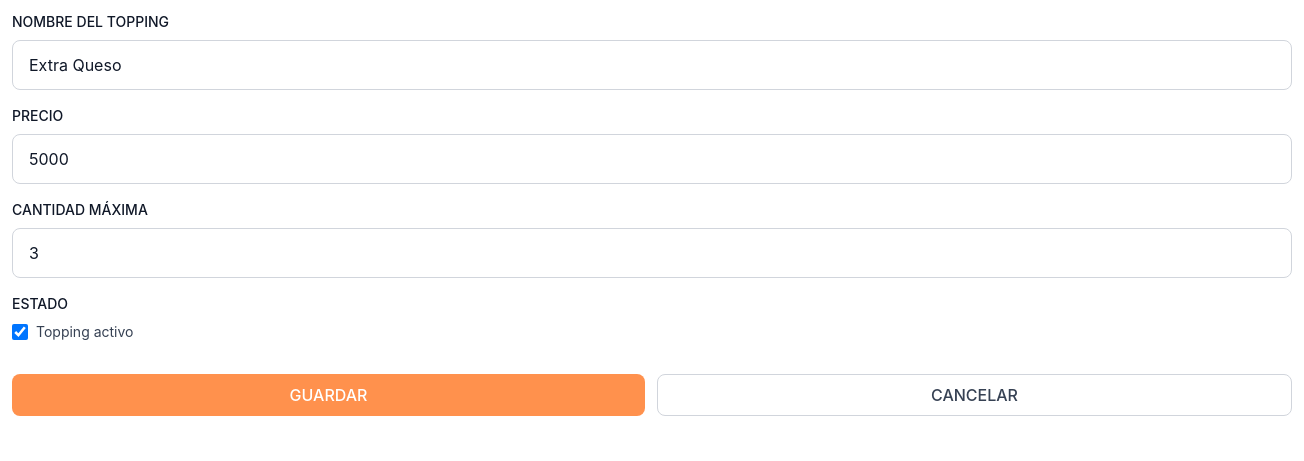
Test: EditToppingForm › Form validation › should show error when name is too short
Replace the text in the field showing "Extra Queso" with "AB": x=652, y=65 [12,40,1292,90]
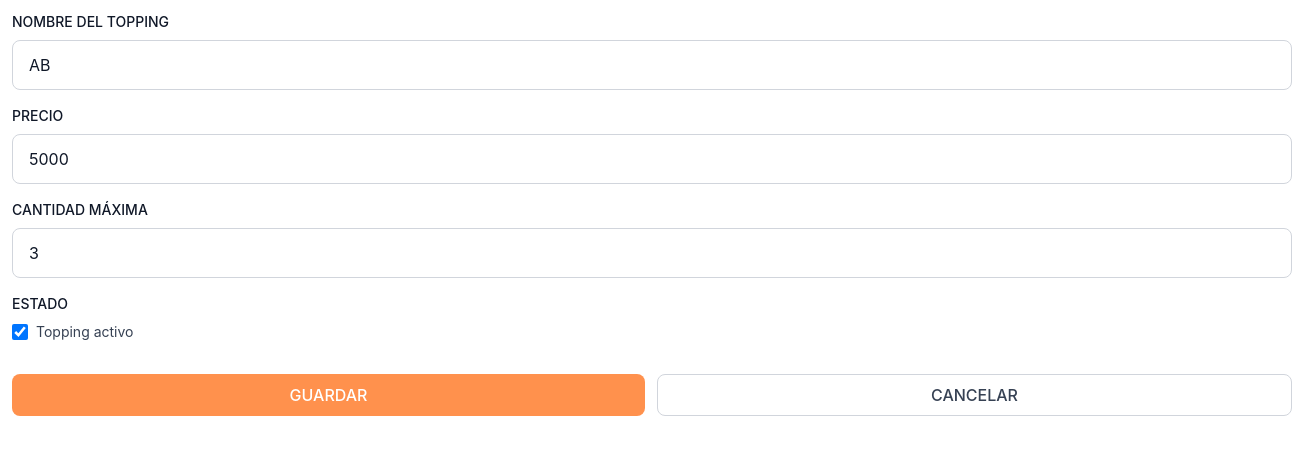
Click the button "GUARDAR": x=328, y=395 [12,374,645,416]
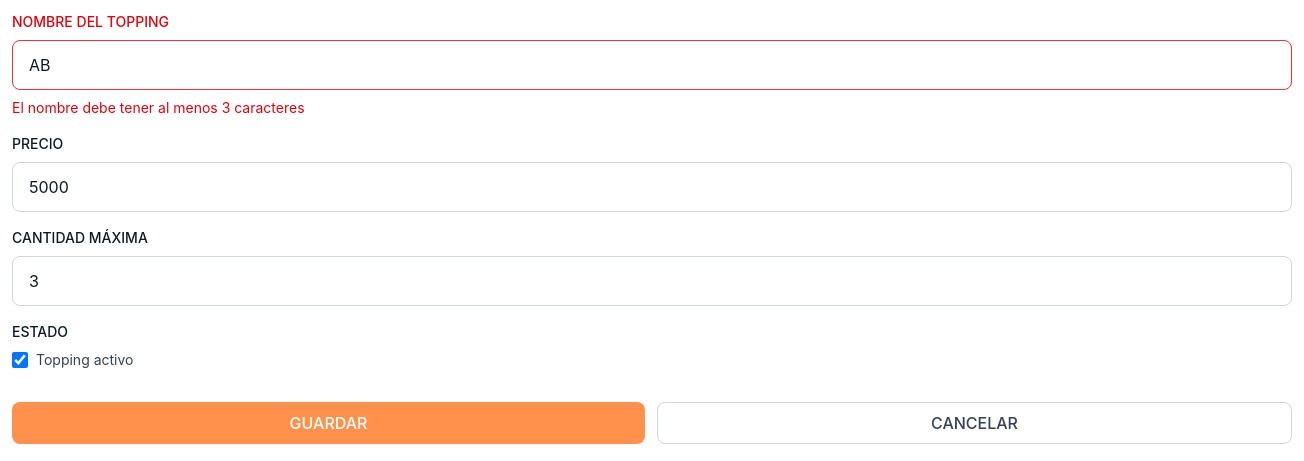
Expected: the text "El nombre debe tener al menos 3 caracteres" is shown, [12,99,305,116]
